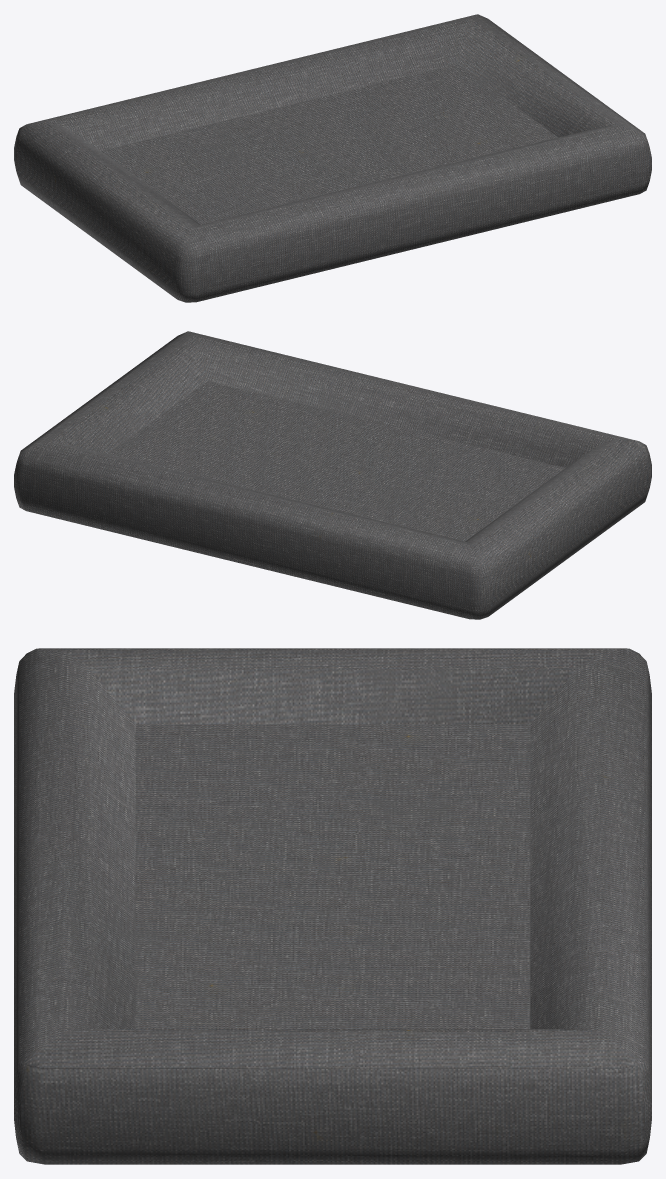
Rendered from DogBed.fbx.
3 renders of one model, top to bottom at view 1: azimuth 30°, elevation 25°; view 2: azimuth 150°, elevation 25°; view 3: azimuth 270°, elevation 25°, orthographic. The views are drawn at different scales.
Parts seen in each view (by area): view 1: Cube; view 2: Cube; view 3: Cube.
Boxes of the visible parts, x1,y1,x2,y2 form: Cube: [14, 14, 651, 302]; Cube: [14, 331, 651, 619]; Cube: [14, 648, 651, 1164].
Size of the model in its own units: 321 by 39.91 by 203.
